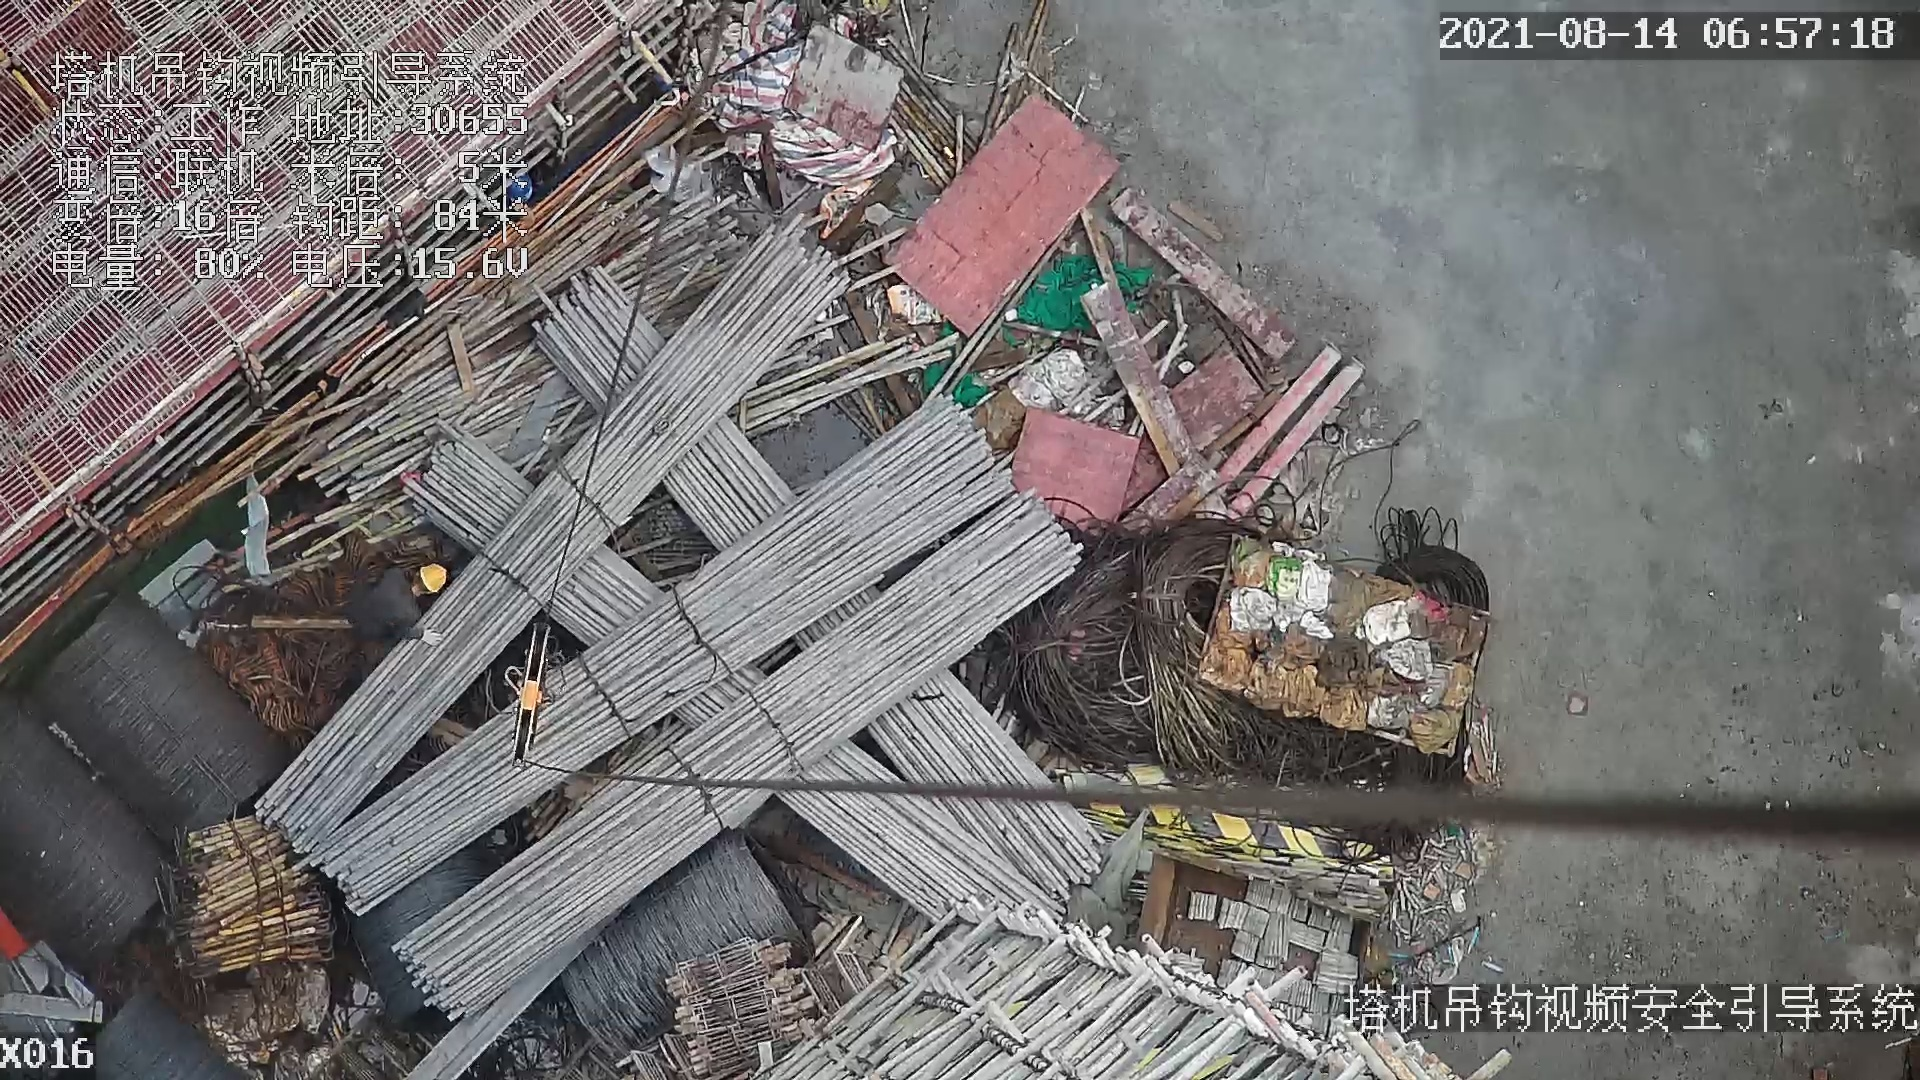helmet: (421, 564, 446, 592)
hook: (505, 618, 564, 760)
person: (333, 558, 451, 651)
rebar: (258, 212, 852, 857), (313, 392, 1017, 916), (394, 493, 1086, 1022), (869, 670, 1109, 891), (770, 741, 1066, 918)
wood: (177, 815, 340, 974)
